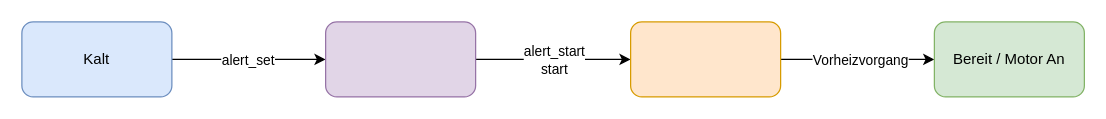
Some shapes in this 1106 by 119 pixel diagram are drawn without their labels. The centre of each missing label's shape, as x and y in pixels:
"Startbereit" belongs at point (400, 59).
"Wärmt auf" belongs at point (705, 59).
